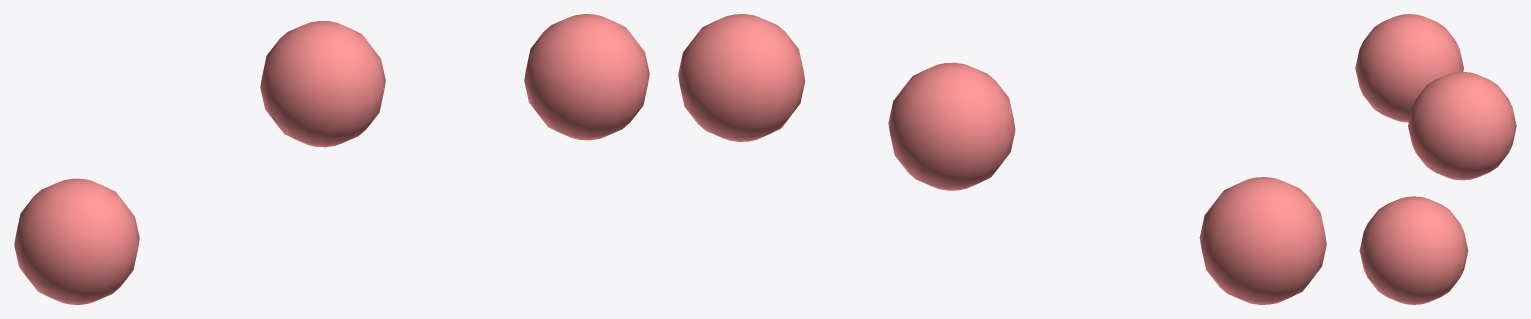
The model's file is balls_mid.glb.
The picture shows the model from 3 angles, left to right: view 1: azimuth 30°, elevation 25°; view 2: azimuth 150°, elevation 25°; view 3: azimuth 270°, elevation 25°; orthographic projection. The views are drawn at different scales.
Parts seen in each view (by area): view 1: Sphere001, Sphere001.002, Sphere001.001; view 2: Sphere001.001, Sphere001, Sphere001.002; view 3: Sphere001, Sphere001.001, Sphere001.002.
Boxes of the visible parts, box(x1,y1,x2,y2) form: Sphere001: box(524, 14, 649, 140); Sphere001.002: box(14, 178, 139, 304); Sphere001.001: box(260, 21, 385, 147); Sphere001.001: box(888, 62, 1015, 190); Sphere001: box(678, 14, 805, 141); Sphere001.002: box(1199, 177, 1326, 304); Sphere001: box(1359, 196, 1468, 304); Sphere001.001: box(1408, 71, 1516, 180); Sphere001.002: box(1355, 14, 1463, 122).
Size of the model in its own units: 0.0527 by 0.0148 by 0.0138.
